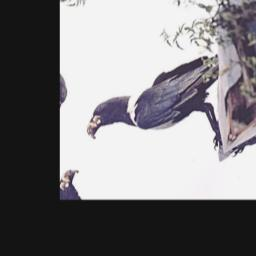Crow: (81, 18, 256, 183)
